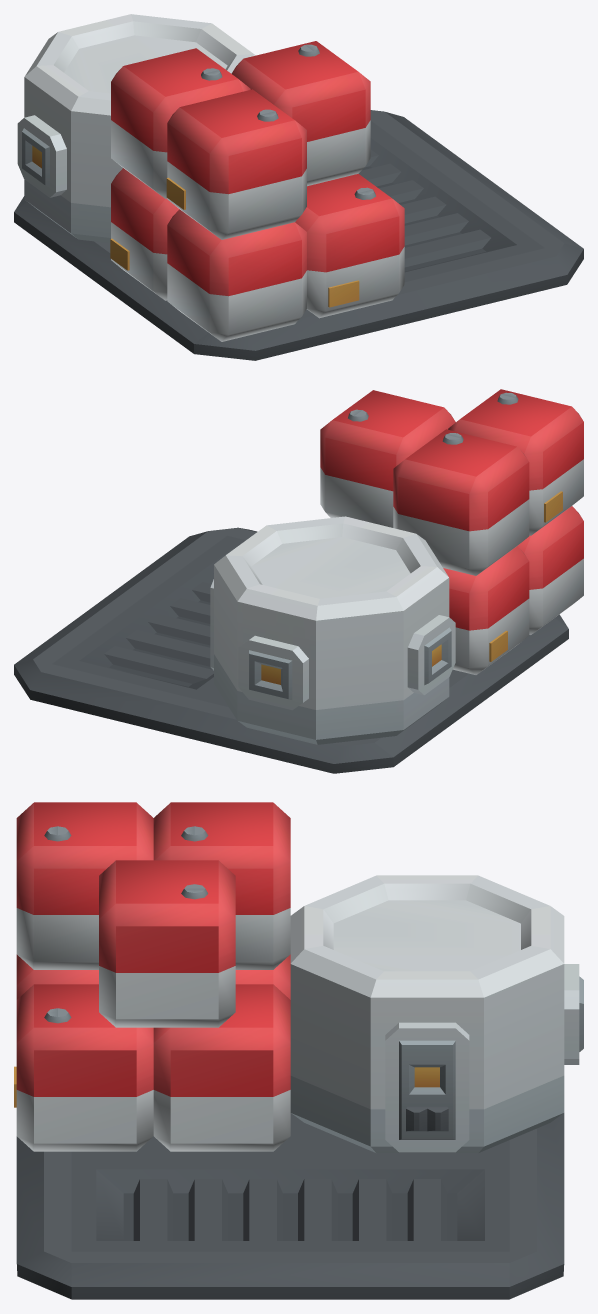
Rendered from crane-7DbKKqkR.glb.
The picture shows the model from 3 angles, top to bottom: view 1: azimuth 30°, elevation 25°; view 2: azimuth 150°, elevation 25°; view 3: azimuth 270°, elevation 25°; orthographic projection. The views are drawn at different scales.
Visible parts, largest first — view 1: cargodepot_A; view 2: cargodepot_A; view 3: cargodepot_A.
Boxes of the visible parts, x1=… form: cargodepot_A: x1=14, y1=14, x2=583, y2=360; cargodepot_A: x1=14, y1=389, x2=583, y2=773; cargodepot_A: x1=14, y1=802, x2=583, y2=1299.
Bounding box in the file's own units: 2.07 × 1.12 × 2.08.
Materials: 1 (1 with a texture image).
